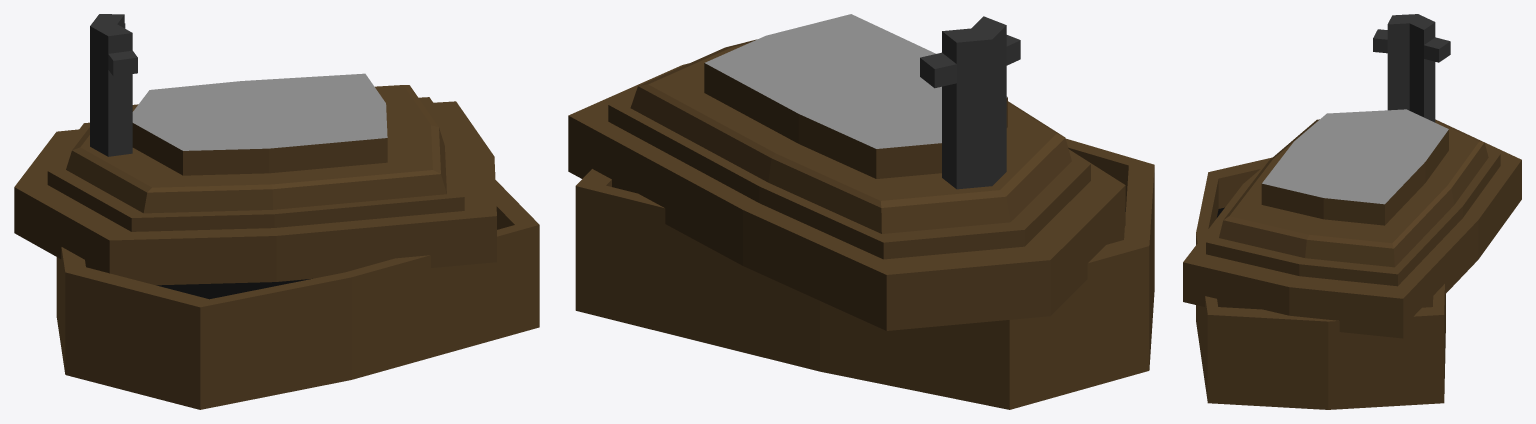
File: kabaong.fbx
The picture shows the model from 3 angles, left to right: view 1: azimuth 30°, elevation 25°; view 2: azimuth 150°, elevation 25°; view 3: azimuth 270°, elevation 25°; orthographic projection. The views are drawn at different scales.
Visible parts, largest first — view 1: Cube.001, Cube; view 2: Cube.001, Cube; view 3: Cube.001, Cube.
Boxes of the visible parts, left/top/right/bottom form: Cube.001: left=14, top=14, right=496, bottom=285; Cube: left=56, top=180, right=539, bottom=409; Cube.001: left=568, top=14, right=1125, bottom=330; Cube: left=575, top=138, right=1154, bottom=409; Cube.001: left=1183, top=14, right=1521, bottom=338; Cube: left=1196, top=157, right=1445, bottom=409.
Size of the model in its own units: 406 by 261 by 319.
